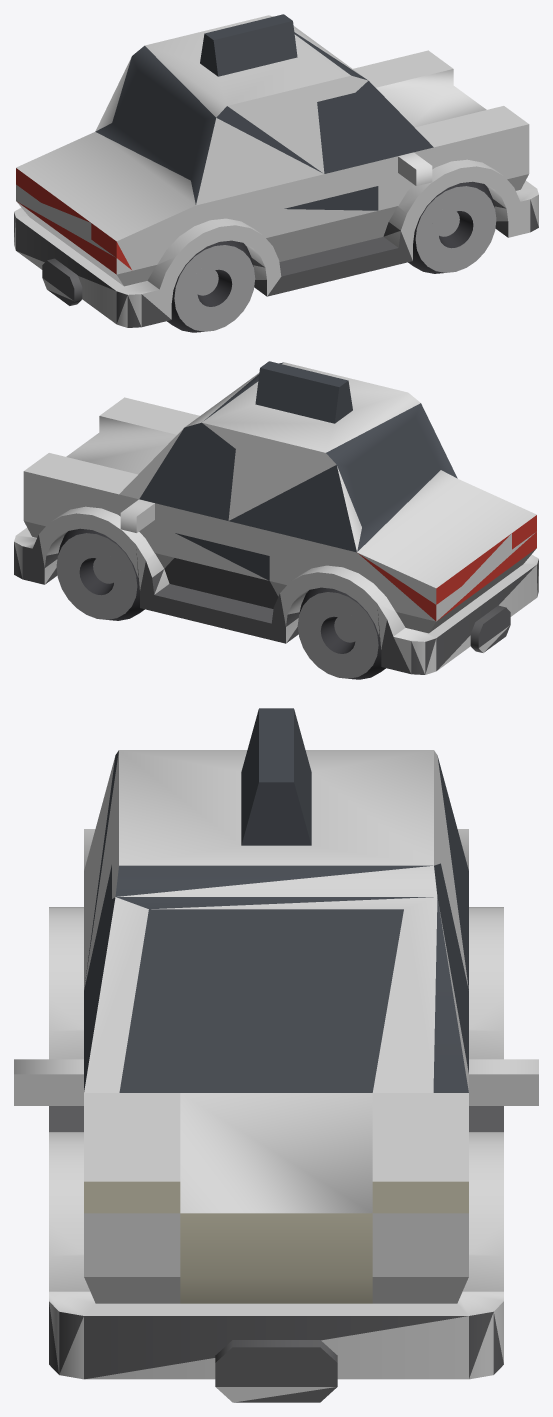
Rendered from taxi_kenney.glb.
The picture shows the model from 3 angles, top to bottom: view 1: azimuth 30°, elevation 25°; view 2: azimuth 150°, elevation 25°; view 3: azimuth 270°, elevation 25°; orthographic projection. The views are drawn at different scales.
Visible parts, largest first — view 1: body, wheel-back-right, wheel-front-right; view 2: body, wheel-back-left, wheel-front-left; view 3: body.
Part boxes in pixels (x1,y1,x2,y2): body: (14, 14, 538, 327); wheel-back-right: (167, 240, 255, 332); wheel-front-right: (408, 181, 496, 273); body: (14, 361, 538, 674); wheel-back-left: (297, 587, 385, 679); wheel-front-left: (56, 528, 144, 620); body: (14, 708, 538, 1402).
Size of the model in its own units: 4.6 by 2.51 by 2.51.
